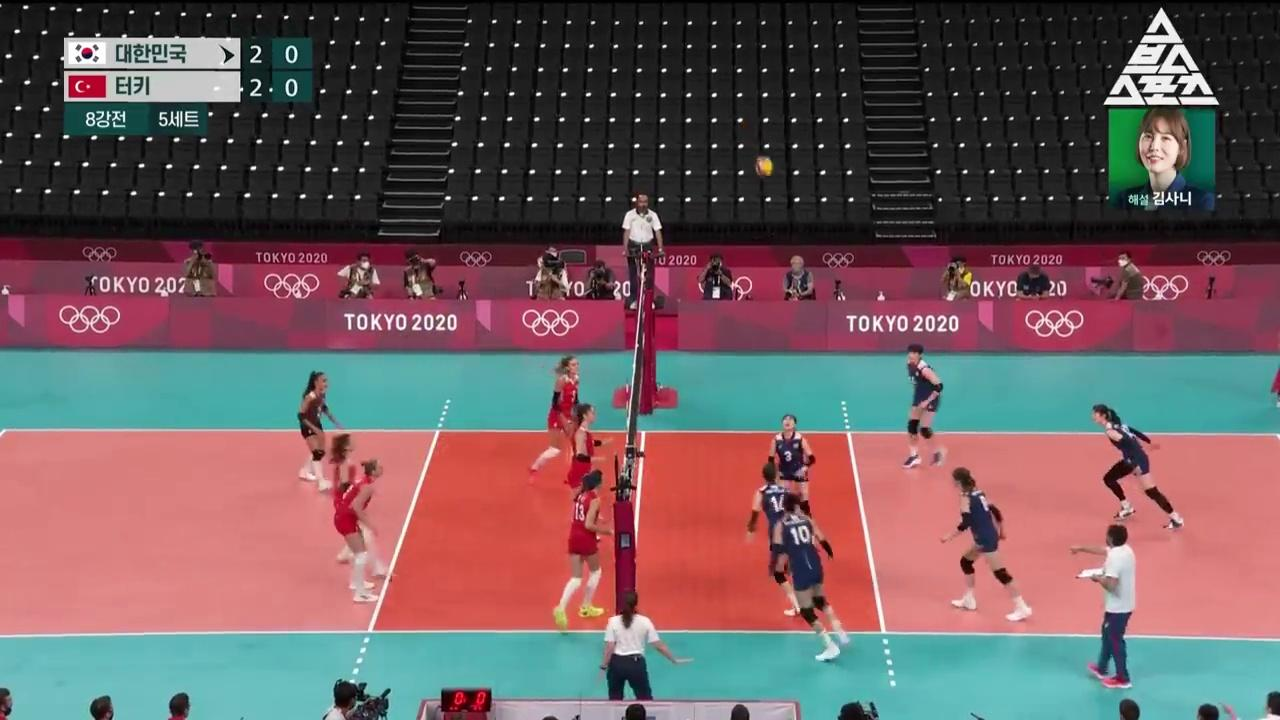ball: (756, 158, 772, 176)
player: (940, 467, 1032, 621), (770, 495, 849, 661), (1093, 405, 1184, 531), (748, 464, 817, 616), (330, 434, 394, 577), (530, 356, 593, 485), (554, 470, 604, 631), (335, 460, 382, 602), (767, 414, 816, 549), (568, 403, 614, 540), (902, 344, 946, 469), (298, 371, 342, 492)
referee: (599, 592, 692, 698), (623, 194, 663, 310)
